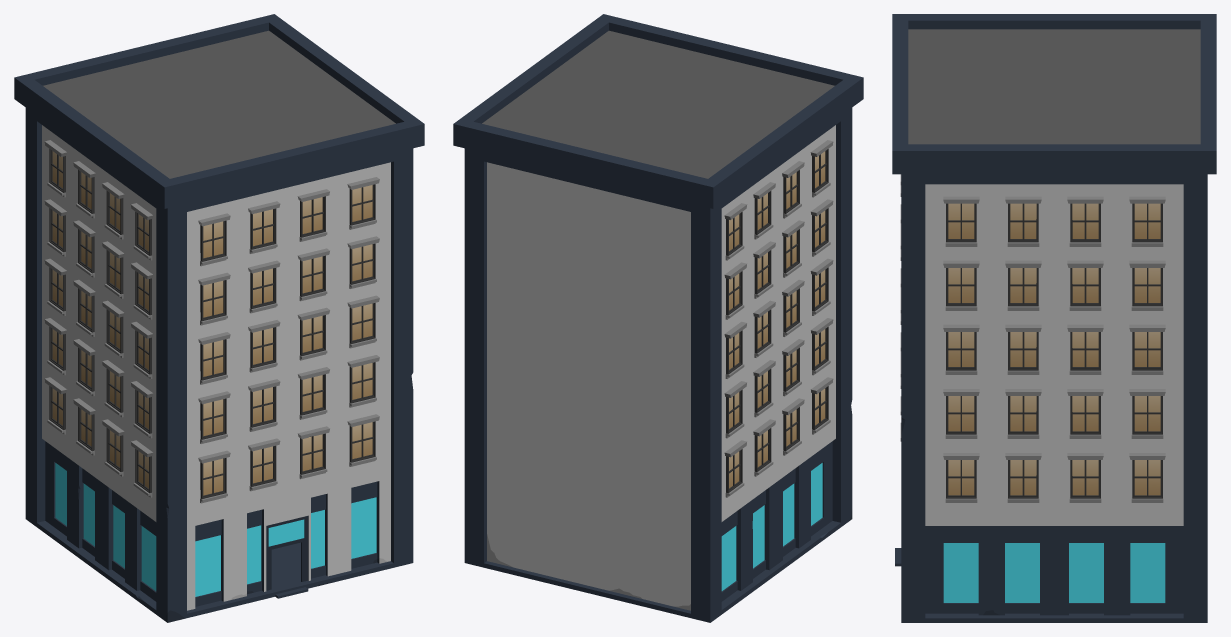
File: SM_Buildings_Office_04.fbx
3 views of the same model, side by side, from view 1: azimuth 30°, elevation 25°; view 2: azimuth 150°, elevation 25°; view 3: azimuth 270°, elevation 25° (orthographic). The views are drawn at different scales.
Parts seen in each view (by area): view 1: SM_Buildings_Office_04; view 2: SM_Buildings_Office_04; view 3: SM_Buildings_Office_04.
Part boxes in pixels (x1=…): SM_Buildings_Office_04: x1=14, y1=14, x2=424, y2=622; SM_Buildings_Office_04: x1=453, y1=14, x2=863, y2=622; SM_Buildings_Office_04: x1=892, y1=14, x2=1216, y2=622.
Bounding box in the file's own units: 15.92 × 25.75 × 15.92.
